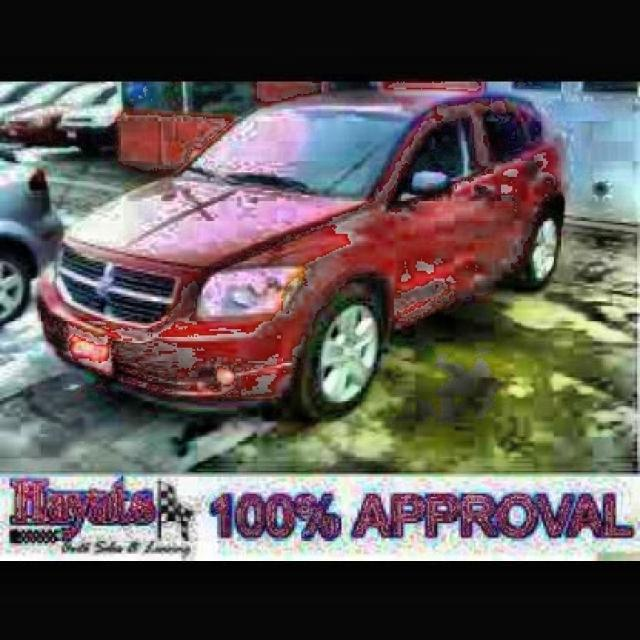maroon: (66, 77, 552, 412)
